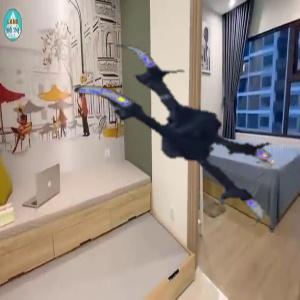drone: (59, 36, 283, 260)
